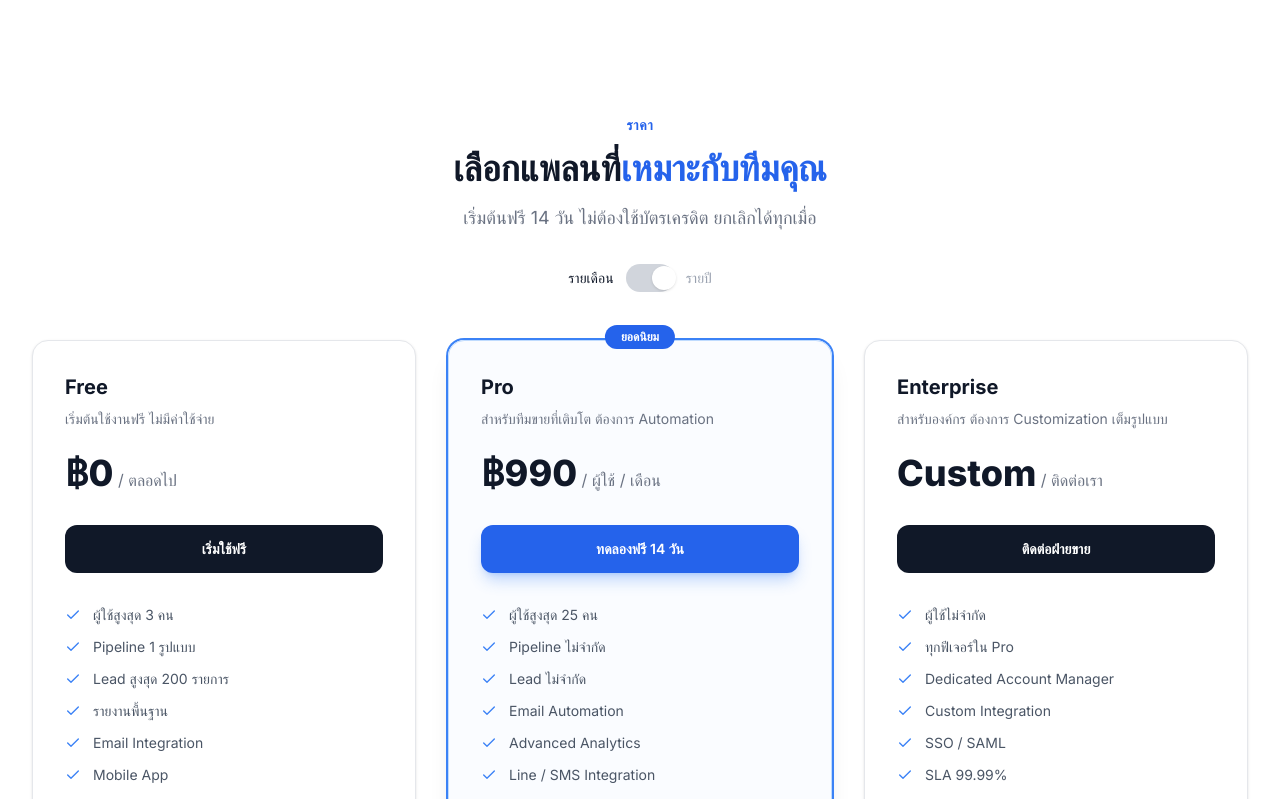
Test case: Pricing › toggles to yearly pricing with 20% discount
Click the switch named "toggle yearly pricing" at (650, 278), box left=626, top=264, right=674, bottom=292
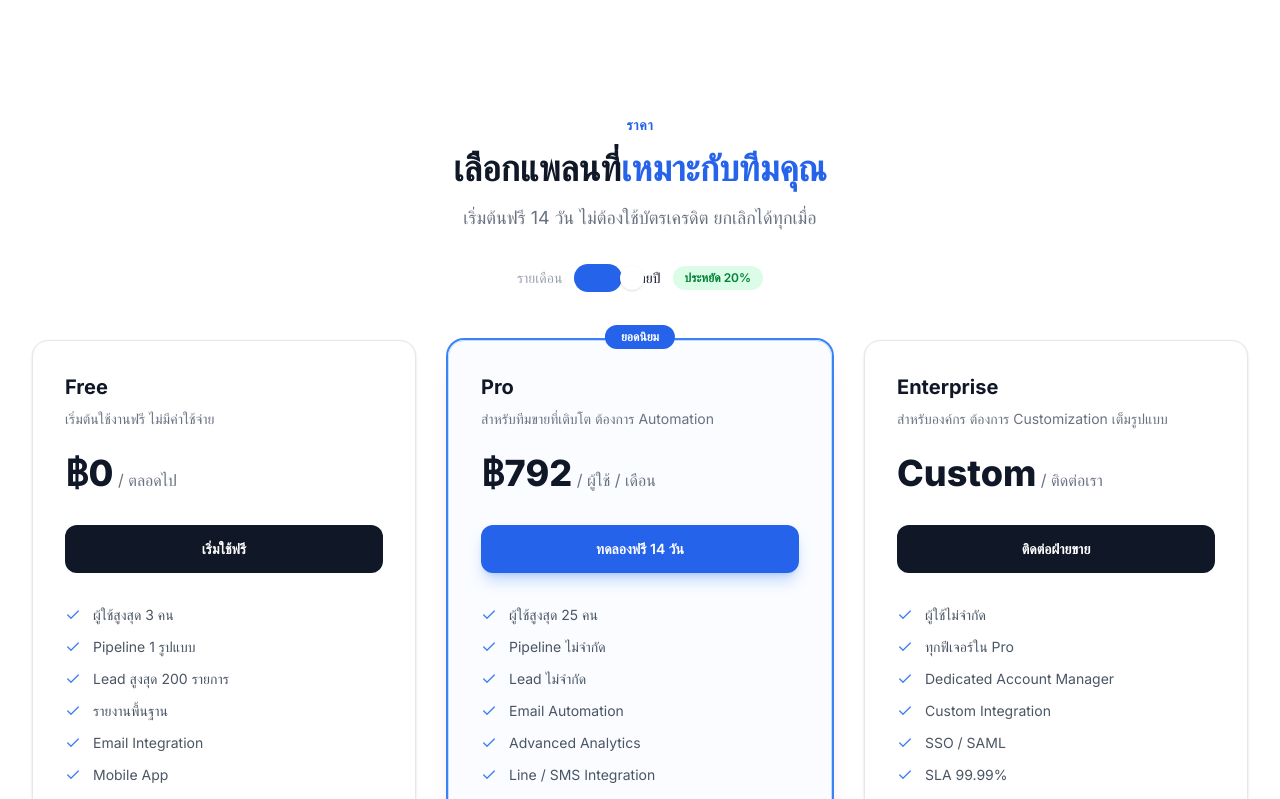
expect the text "ประหยัด 20%" is shown: met, box left=673, top=266, right=763, bottom=290
expect the text "฿792" is shown: met, box left=481, top=451, right=572, bottom=495
